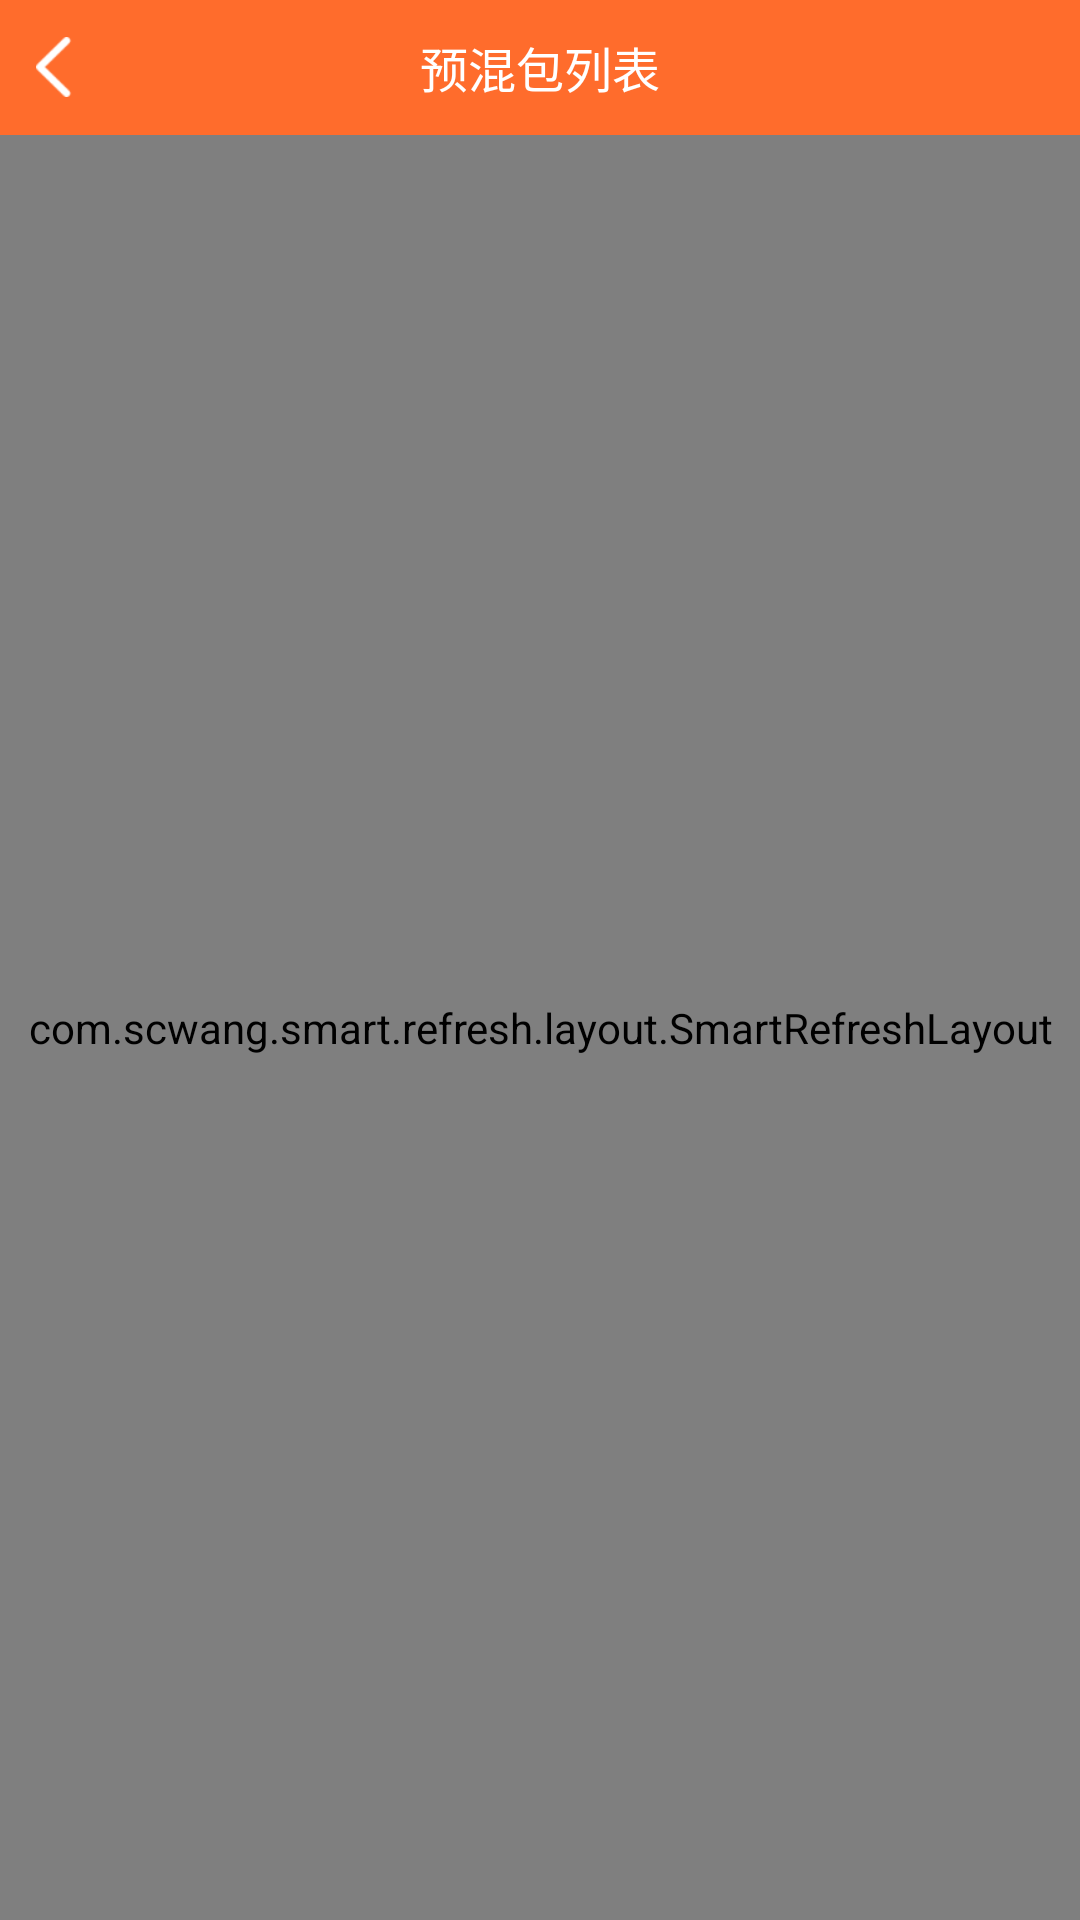

Locate icon controls on the screen. Image size 1080px×1920px, boxes as bbox(x1, y1, x2, y2).
back: bbox(36, 37, 71, 97)
